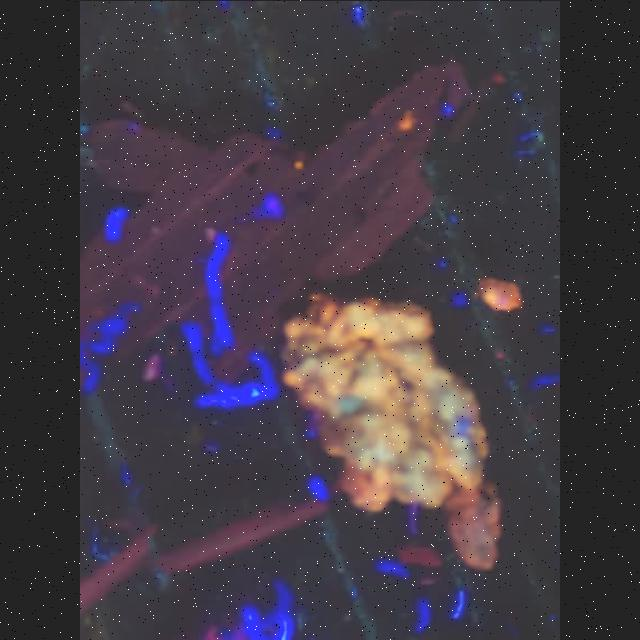Fragment: (275, 294, 491, 515)
